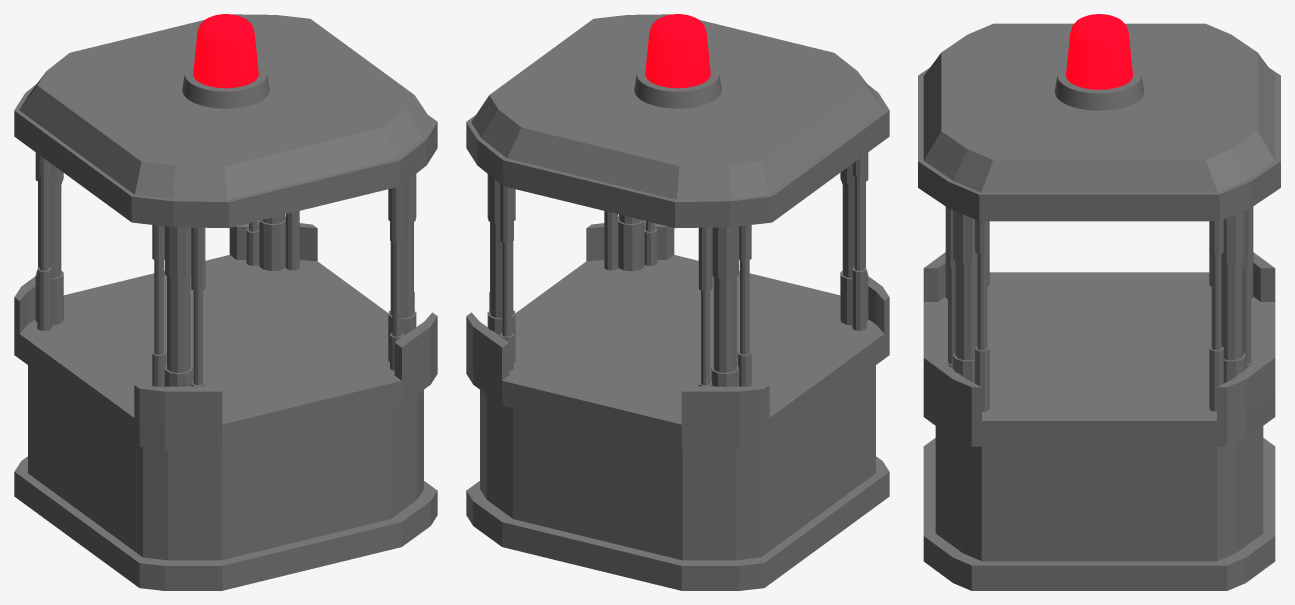
The model's file is Mesh_RobotScanner.fbx.
3 renders of one model, left to right at view 1: azimuth 30°, elevation 25°; view 2: azimuth 150°, elevation 25°; view 3: azimuth 270°, elevation 25°, orthographic. The views are drawn at different scales.
Parts seen in each view (by area): view 1: Mesh_RobotScanner, Mesh_RSLight; view 2: Mesh_RobotScanner, Mesh_RSLight; view 3: Mesh_RobotScanner, Mesh_RSLight.
Boxes of the visible parts, x1=… form: Mesh_RobotScanner: x1=14, y1=14, x2=437, y2=590; Mesh_RSLight: x1=193, y1=14, x2=258, y2=88; Mesh_RobotScanner: x1=466, y1=14, x2=889, y2=590; Mesh_RSLight: x1=645, y1=14, x2=710, y2=88; Mesh_RobotScanner: x1=918, y1=23, x2=1280, y2=590; Mesh_RSLight: x1=1066, y1=14, x2=1132, y2=89.
Size of the model in its own units: 246 by 373 by 248.
